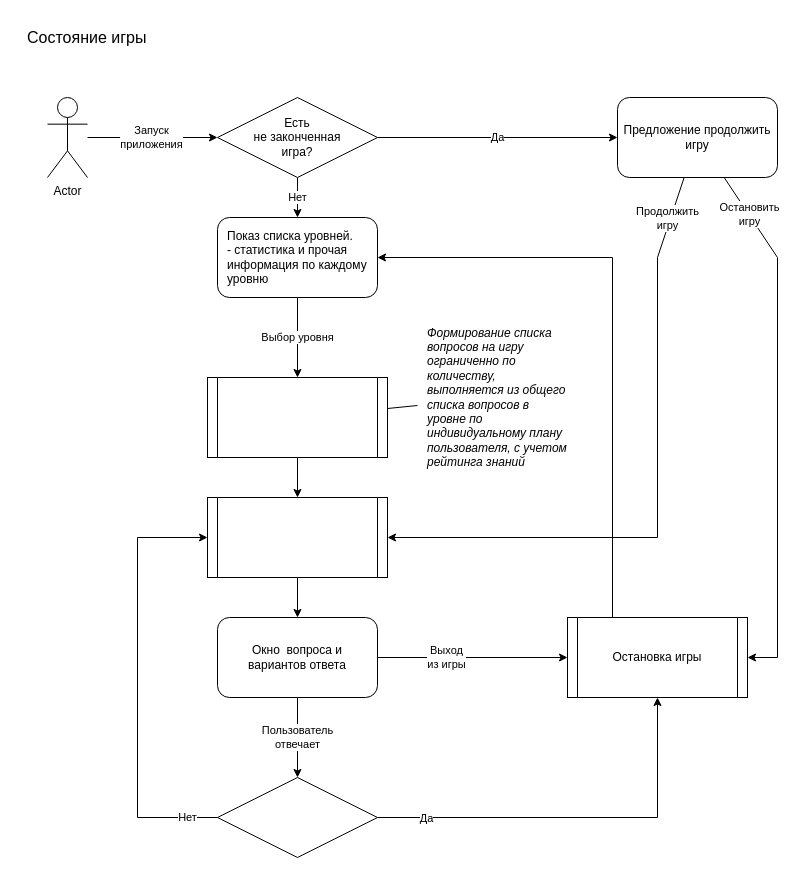
Image size: 803x875. Some labels were removed from this diagram. The shapes that lost their labels are listed below. From the top down, each one's box as (x1, y1, x2, y2) in pixels, then its label:
(206, 376, 388, 458): Старт игры: формирование списка вопросов на игру
(206, 496, 388, 578): Выбор очередного вопроса
(216, 776, 378, 858): Последний вопрос в игре?
